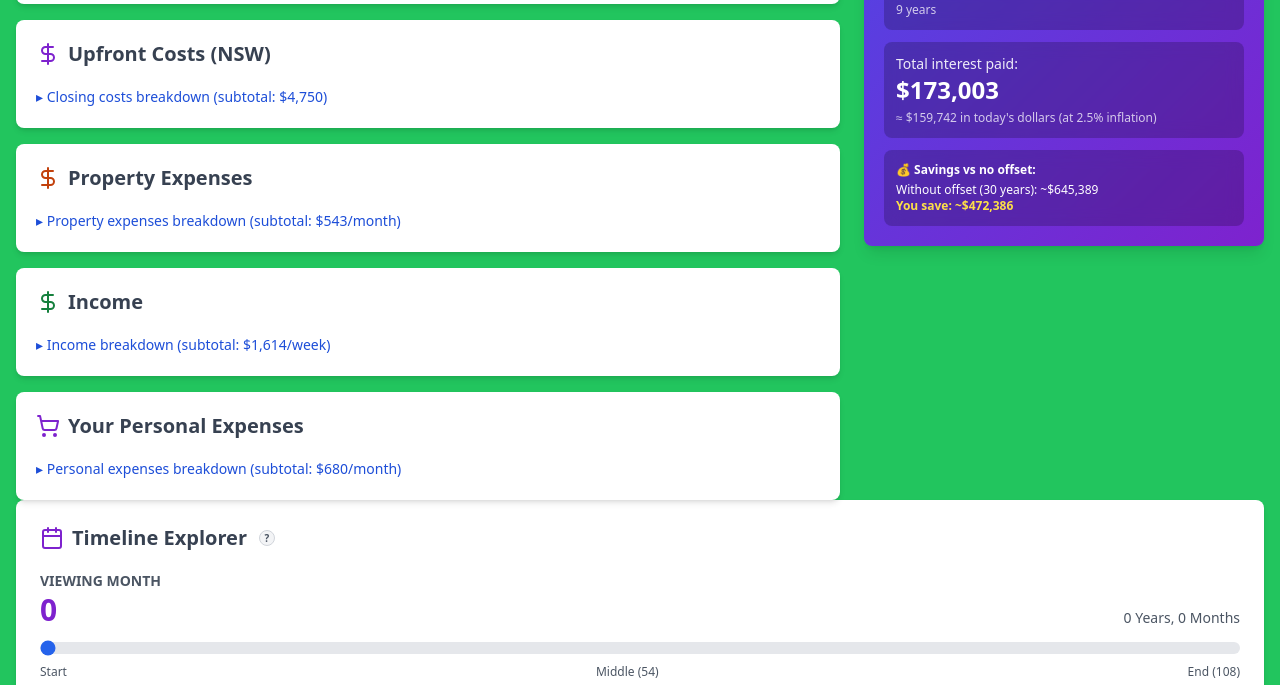
Test case: Income Name category-conditional rendering (TODO-56) › shows the Shared Room sub-form only for Room Rent
The image size is (1280, 685).
(page scrolled)
Click the button "▸ Income breakdown (subtotal: $1,614/week)".
click(183, 345)  # box top-left (36, 335), bottom-right (330, 355)
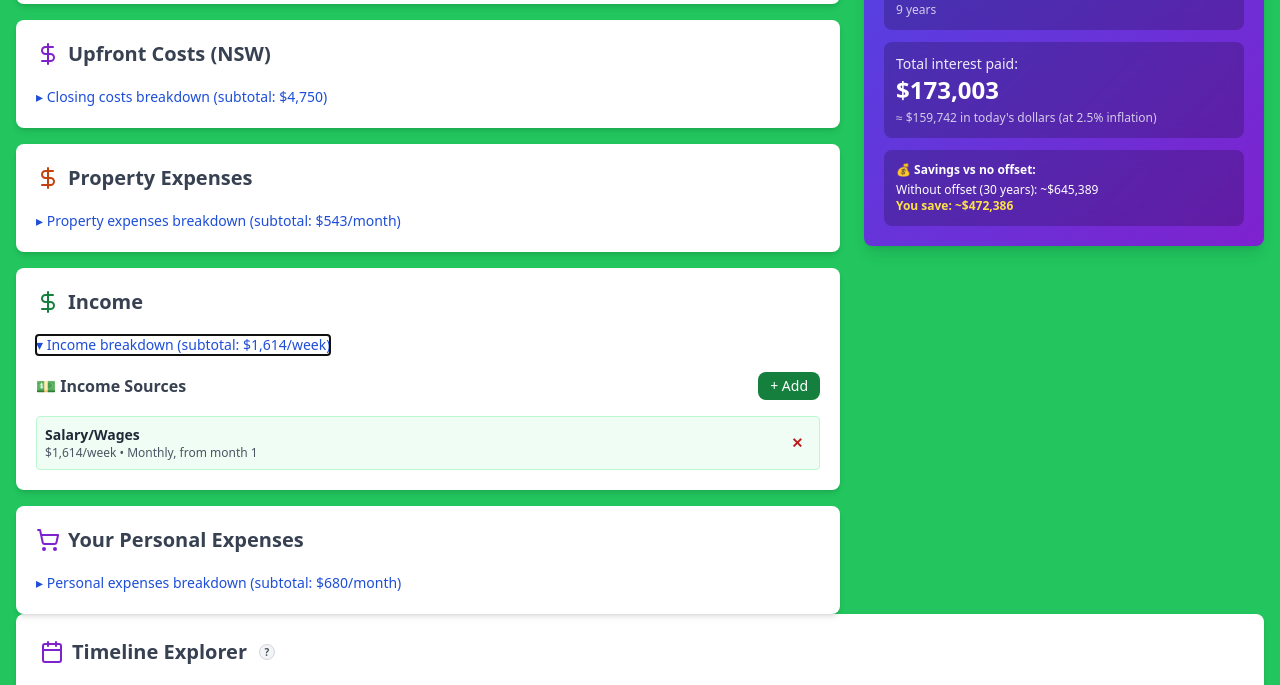
Click the button "+ Add".
click(789, 386)  # box top-left (758, 372), bottom-right (820, 400)
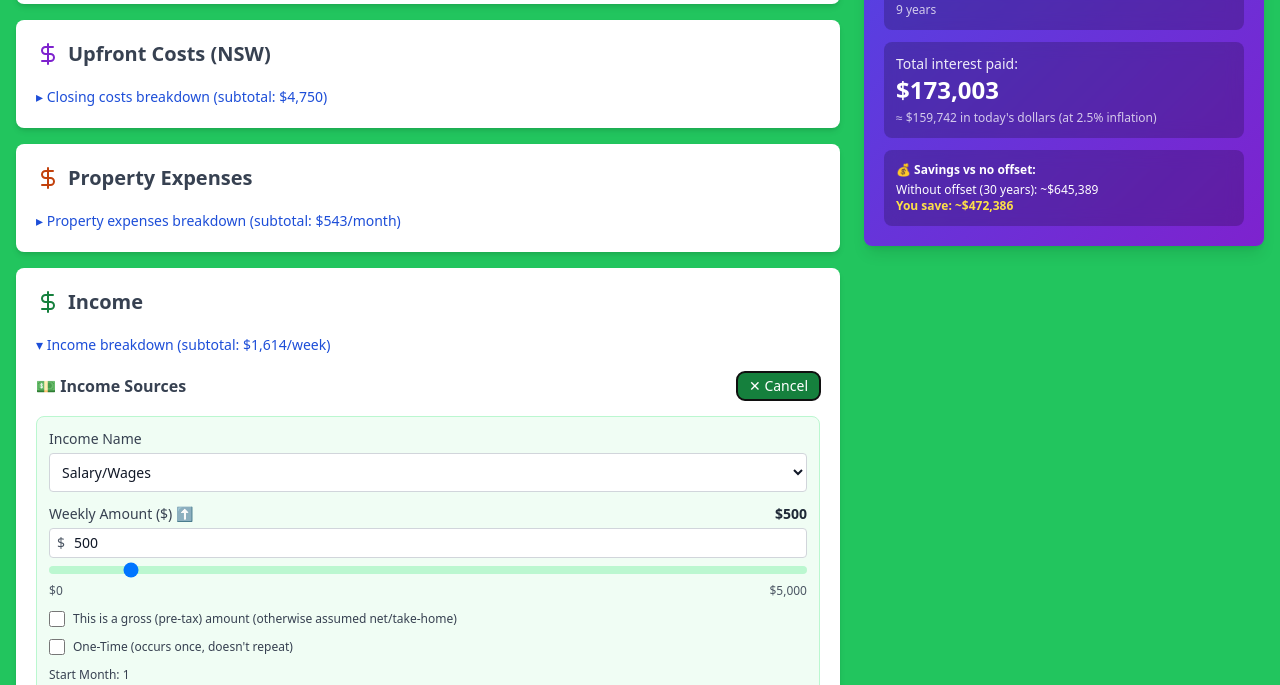
Select "Room Rent" in the dropdown showing "Salary/Wages" at coordinates (428, 472), box top-left (49, 453), bottom-right (807, 492)
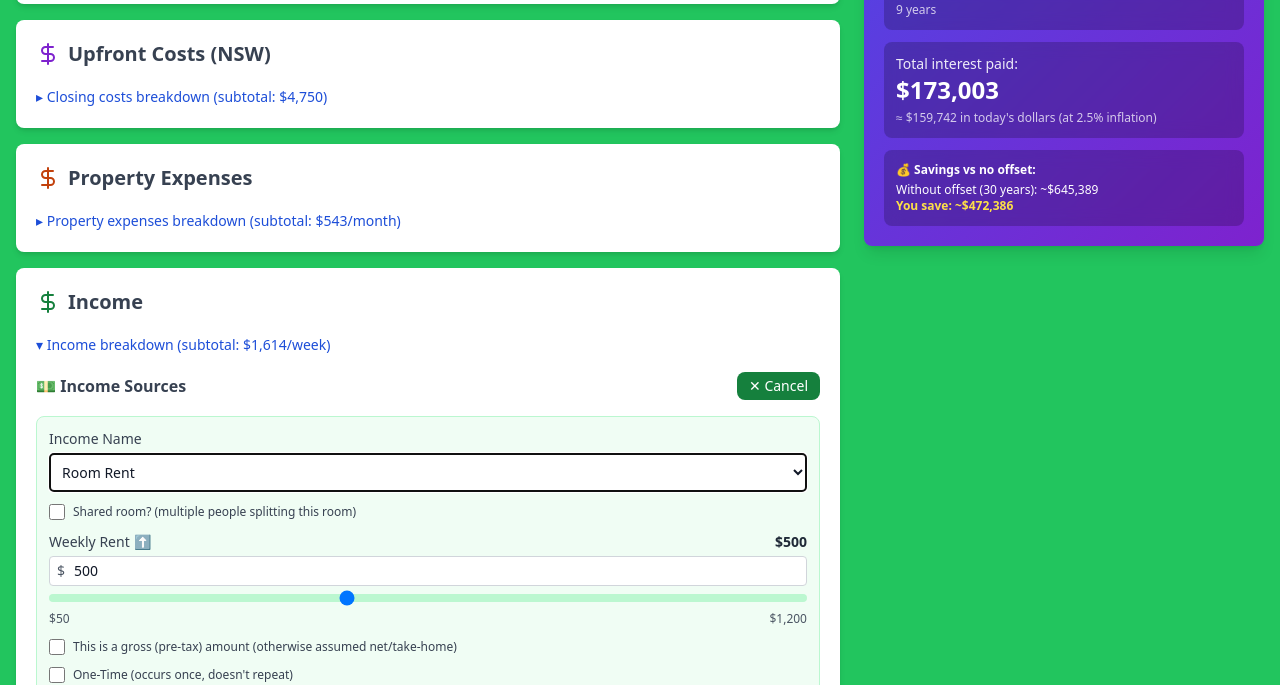
Expected: the checkbox labelled "Shared room? (multiple people splitting this room)" is shown, top-left (49, 504), bottom-right (65, 520)
Select "House Rent" in the dropdown showing "Room Rent" at coordinates (428, 472), box top-left (49, 453), bottom-right (807, 492)
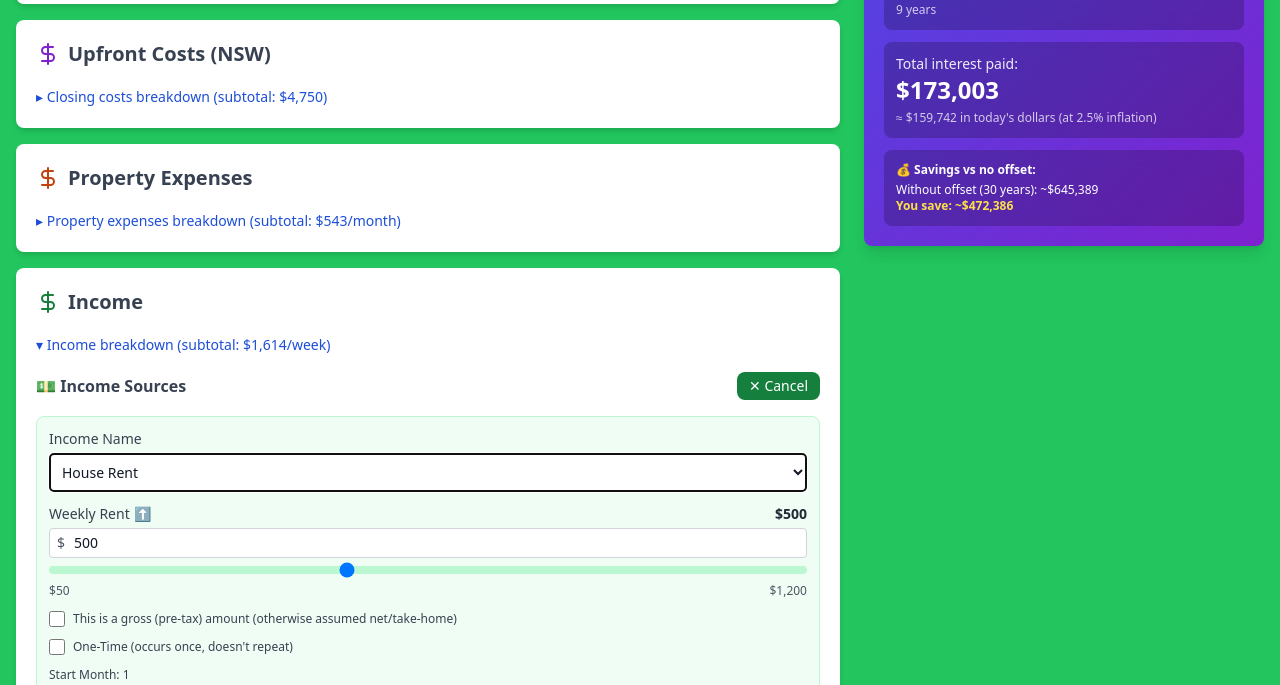
Expected: the label labelled "Shared room?" is gone
